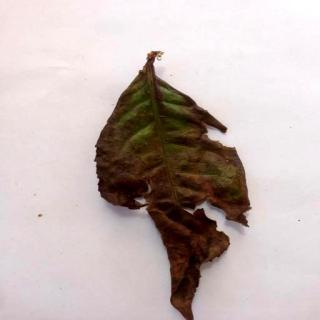Algal Leaf: (97, 53, 252, 320)
